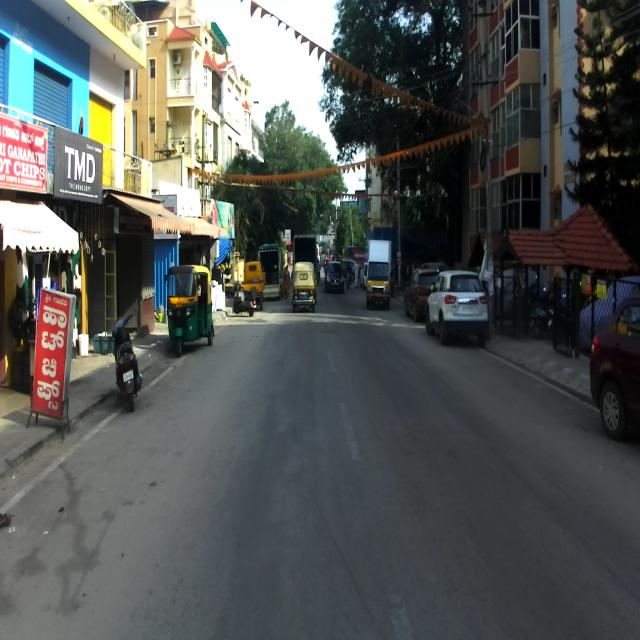auto ahead at: (162, 261, 215, 352)
barrier ahead at: (24, 280, 76, 446)
car ahead at: (427, 265, 491, 340)
motorcycle ahead at: (104, 311, 144, 408)
